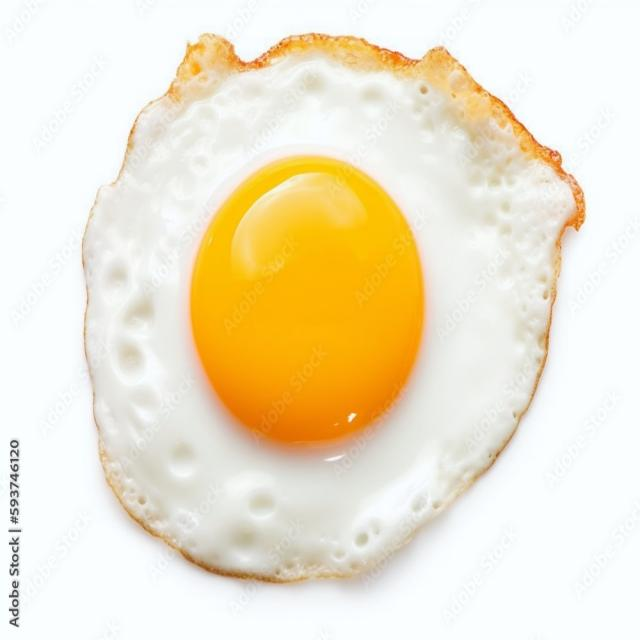Egg: (84, 35, 585, 580)
